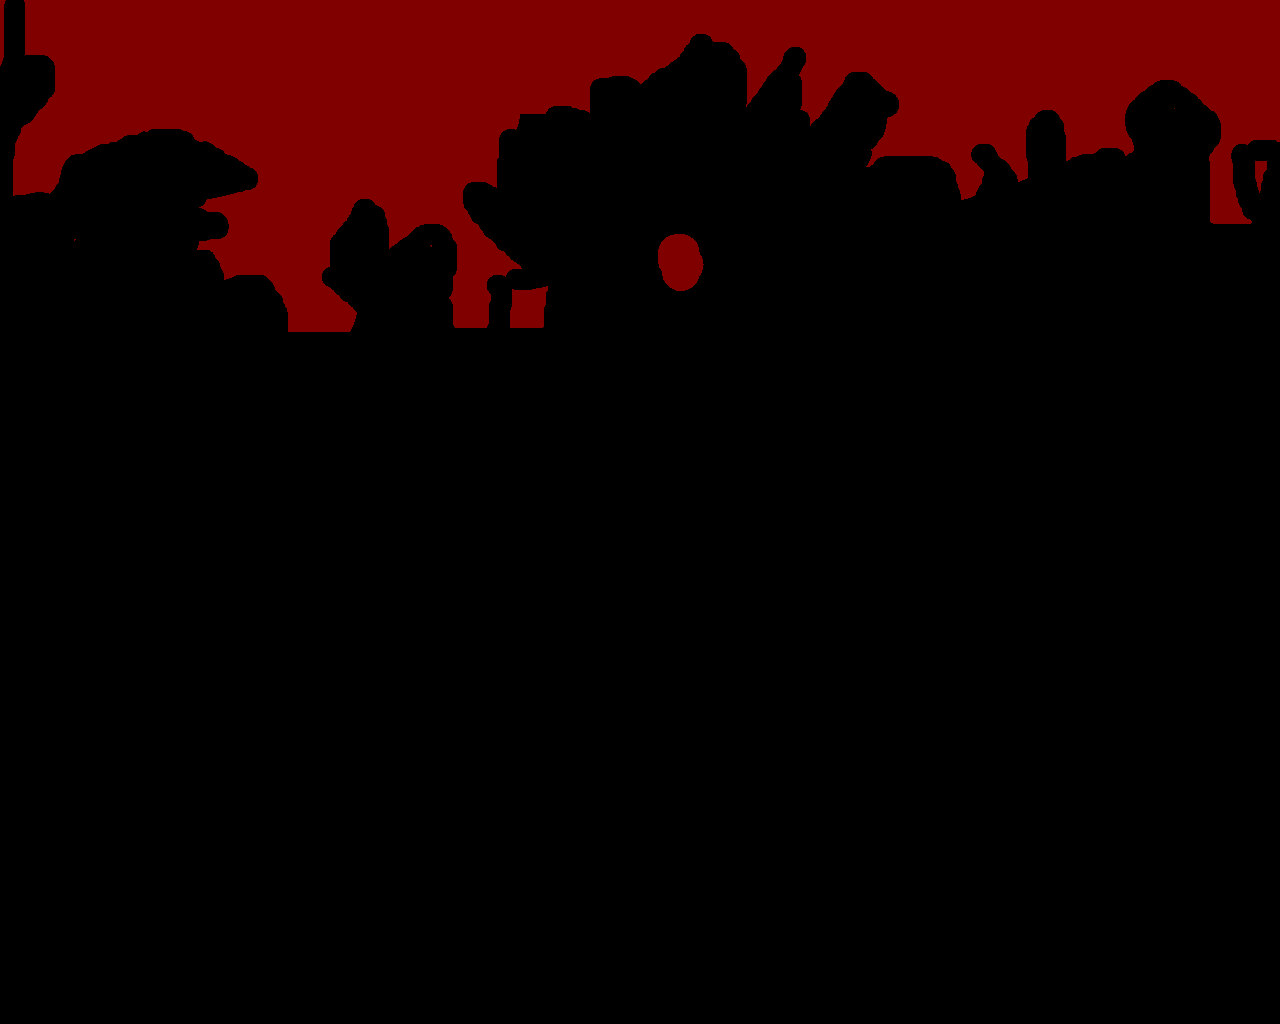Sky: (1, 1, 1279, 1023)
